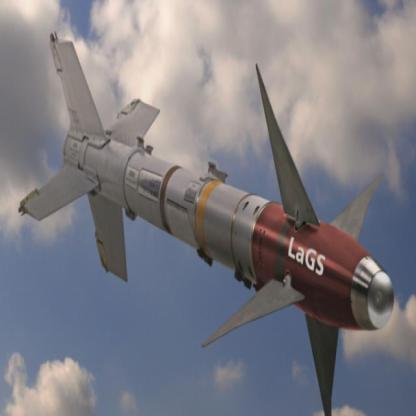MIL_TBM: (14, 125, 416, 336)
